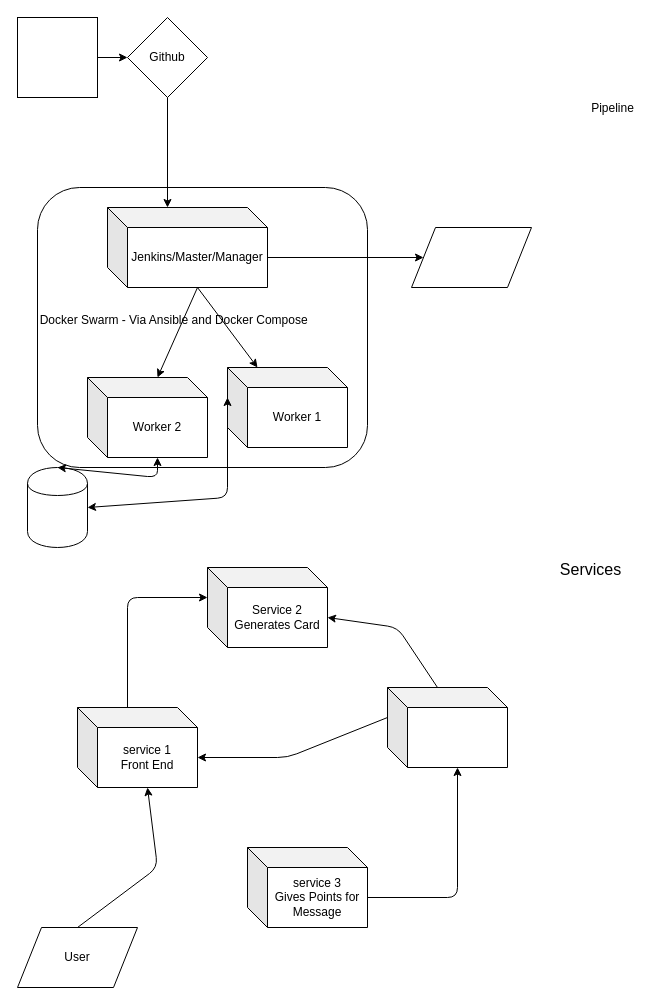
This 660x1005 diagram has some shape labels left out. Each missing label, with the centre of its shape:
"Develop" belongs at (x=57, y=57).
"Front End" belongs at (x=471, y=257).
"GCP DB" belongs at (x=57, y=507).
"Service 4 Checks for Higher/Lower" belongs at (x=447, y=727).
